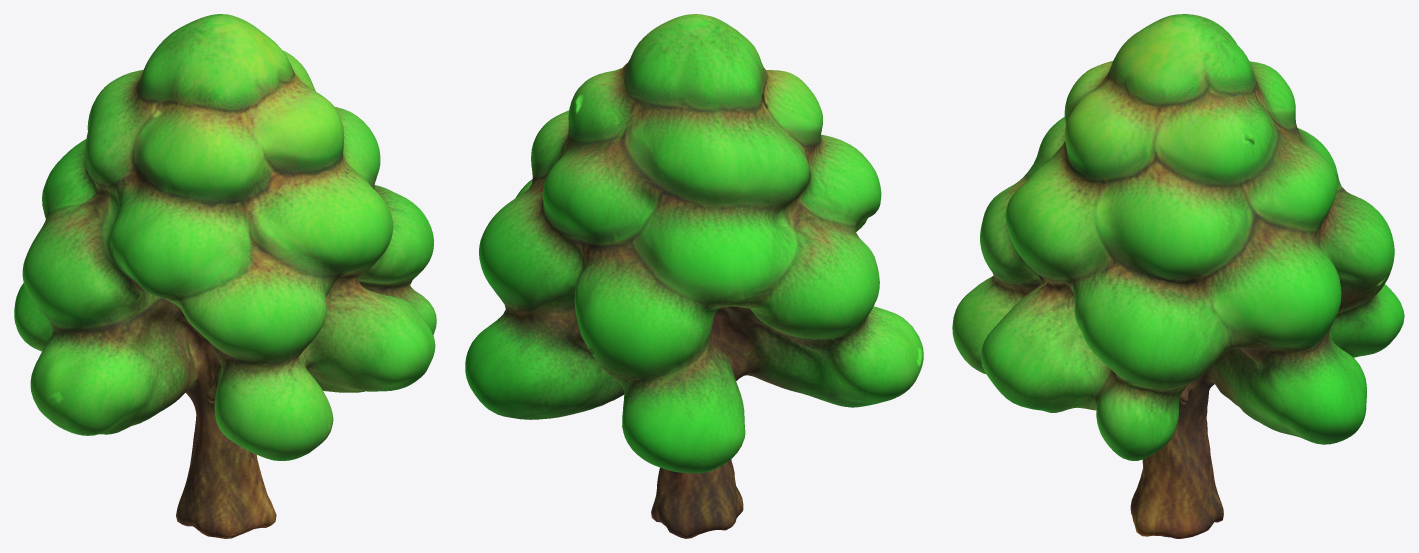
The model's file is tree_pbr.glb.
3 renders of one model, left to right at view 1: azimuth 30°, elevation 25°; view 2: azimuth 150°, elevation 25°; view 3: azimuth 270°, elevation 25°, orthographic.
Visible parts, largest first — view 1: Mesh1; view 2: Mesh1; view 3: Mesh1.
Part boxes in pixels (x1,y1,x2,y2): Mesh1: [14, 14, 436, 538]; Mesh1: [465, 14, 923, 538]; Mesh1: [952, 14, 1404, 538].
Size of the model in its own units: 0.9765 by 1.2 by 0.9751.
Materials: 1 (1 with a texture image).
